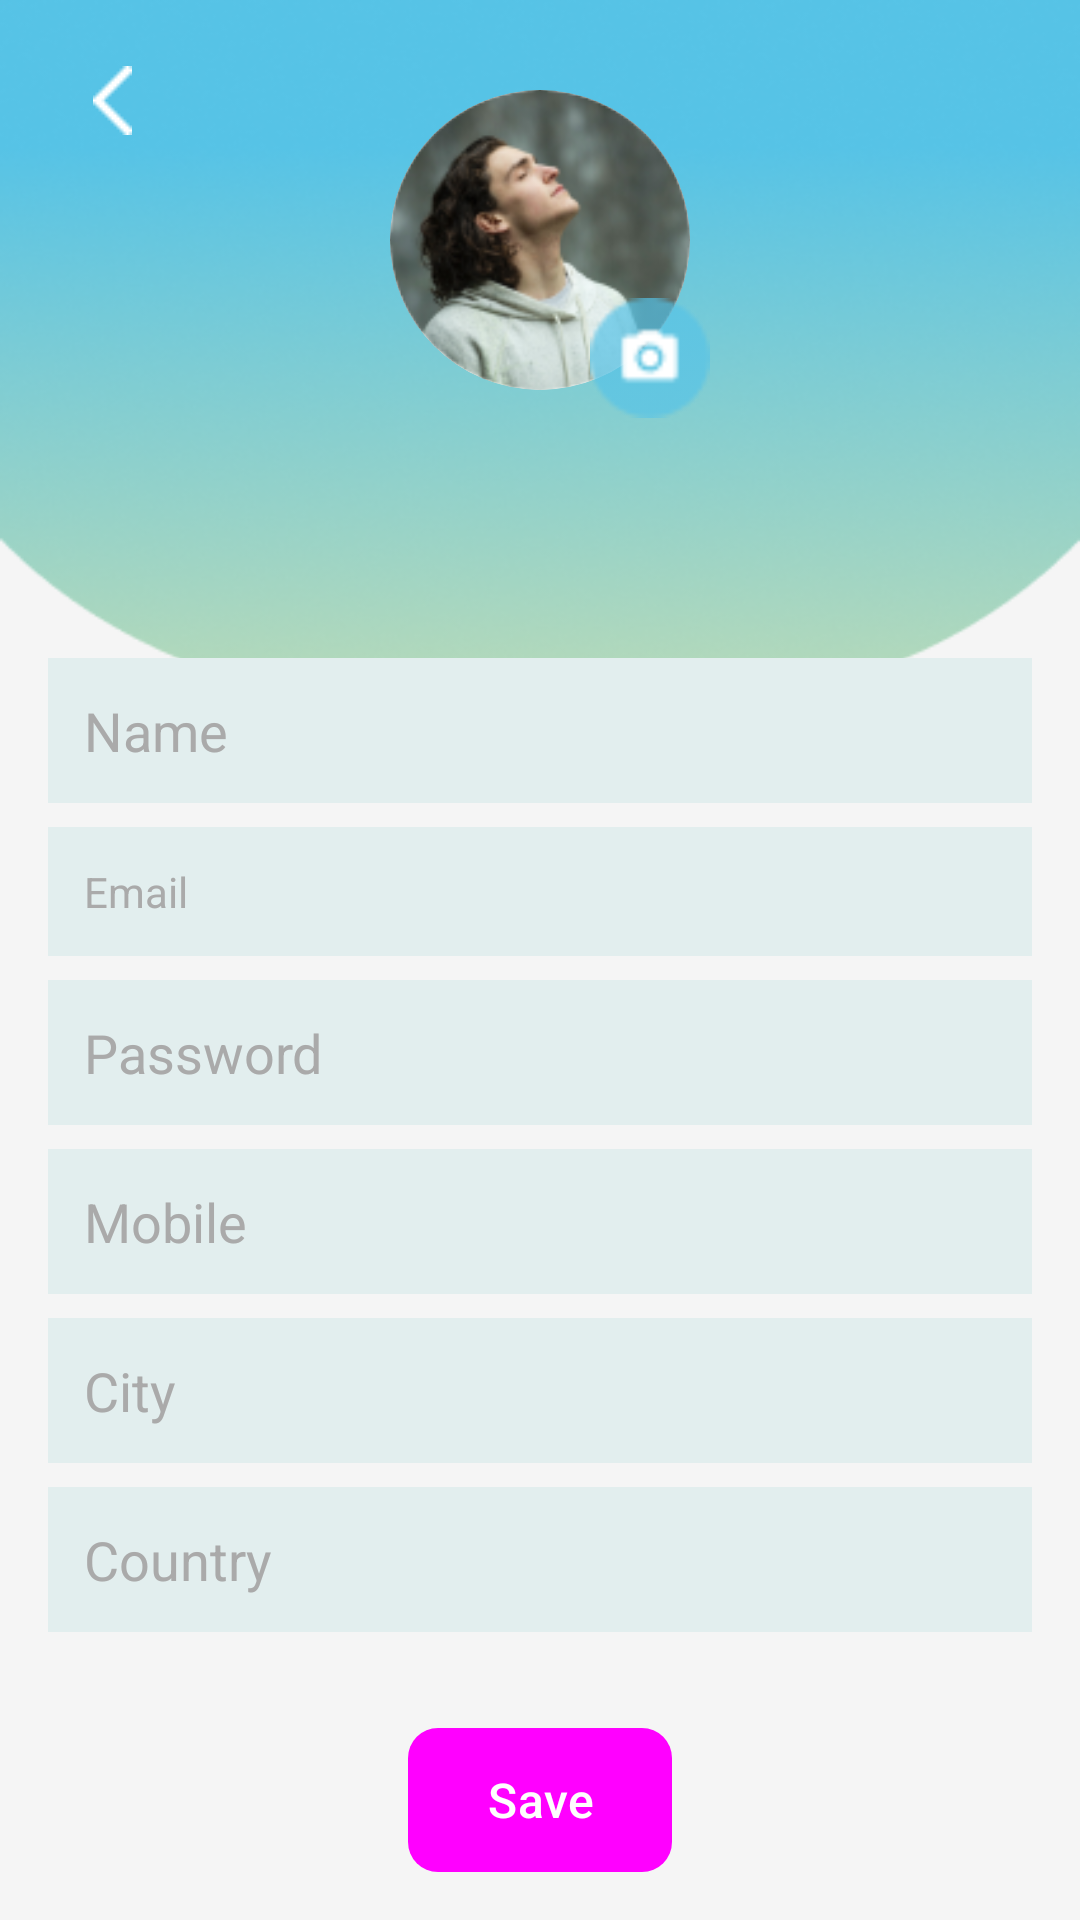

Screen size 1080w x 1920h. Icon name, then its center in pixels as point (x, y):
Back: point (112, 100)
